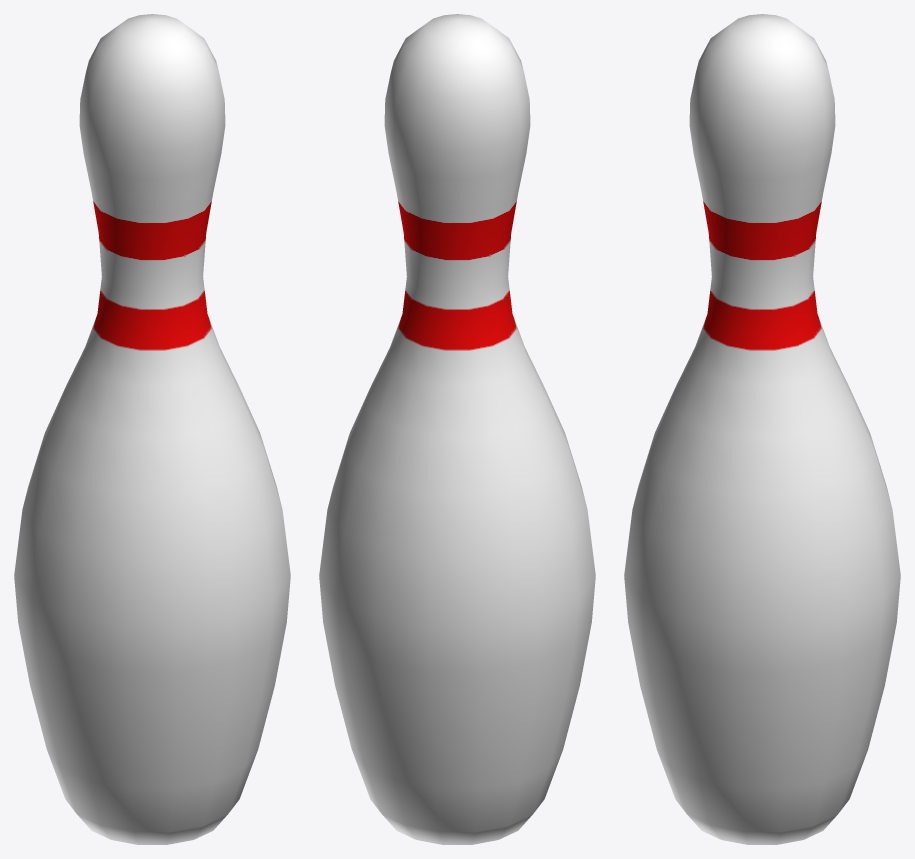
Rendered from Pin.obj.
3 views of the same model, side by side, from view 1: azimuth 30°, elevation 25°; view 2: azimuth 150°, elevation 25°; view 3: azimuth 270°, elevation 25° (orthographic).
Parts seen in each view (by area): view 1: Lowest:Polly:Pin; view 2: Lowest:Polly:Pin; view 3: Lowest:Polly:Pin.
Part boxes in pixels (<box>): Lowest:Polly:Pin: <box>14,14,290,844</box>; Lowest:Polly:Pin: <box>319,14,595,844</box>; Lowest:Polly:Pin: <box>624,14,900,844</box>.
Size of the model in its own units: 11.3 by 36.03 by 11.36.
